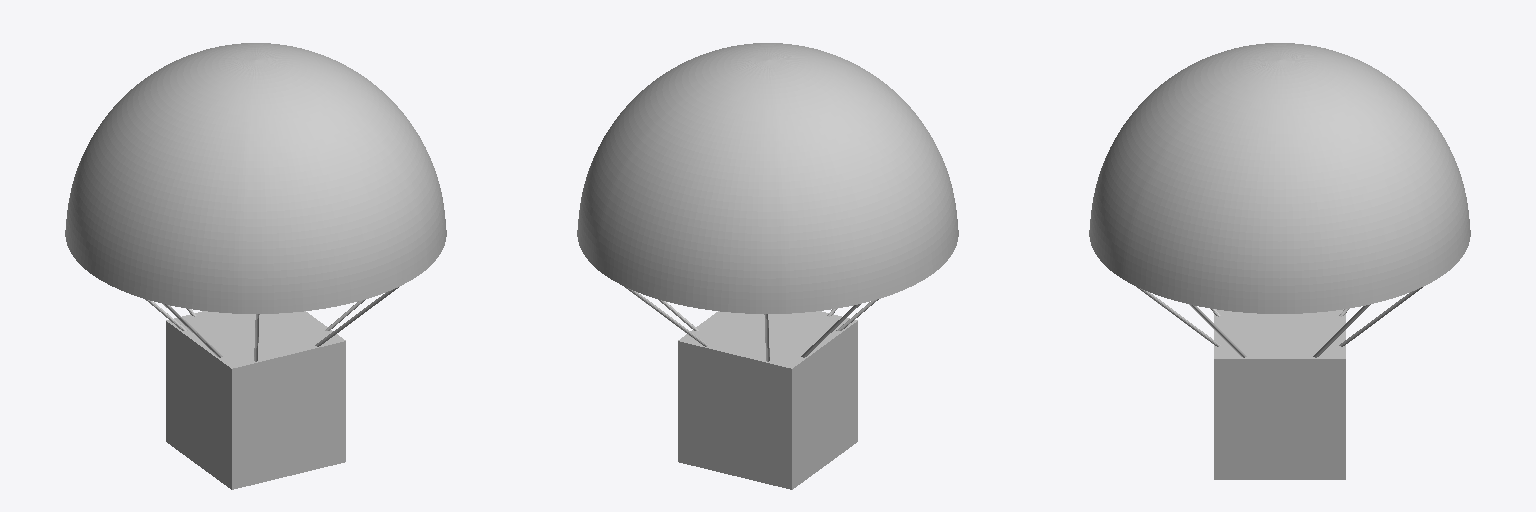
Rendered from Parachute_bitcoin_OBJ.obj.
The picture shows the model from 3 angles: view 1: azimuth 30°, elevation 25°; view 2: azimuth 150°, elevation 25°; view 3: azimuth 270°, elevation 25°; orthographic projection.
Parts seen in each view (by area): view 1: Sphere004, Box004, Plane015, Plane018, Line029; view 2: Sphere004, Box004, Plane017, Plane018, Line030; view 3: Sphere004, Box004, Plane016, Line029, Line030.
Part boxes in pixels (left/top/right/bottom): Sphere004: left=65, top=43, right=446, bottom=313; Box004: left=166, top=311, right=345, bottom=489; Plane015: left=252, top=369, right=325, bottom=463; Plane018: left=177, top=352, right=219, bottom=460; Line029: left=315, top=287, right=398, bottom=346; Sphere004: left=577, top=43, right=958, bottom=313; Box004: left=678, top=311, right=857, bottom=489; Plane017: left=698, top=369, right=771, bottom=463; Plane018: left=804, top=352, right=846, bottom=460; Line030: left=625, top=287, right=708, bottom=346; Sphere004: left=1089, top=43, right=1470, bottom=313; Box004: left=1214, top=309, right=1345, bottom=479; Plane016: left=1237, top=382, right=1322, bottom=458; Line029: left=1137, top=287, right=1246, bottom=357; Line030: left=1313, top=287, right=1422, bottom=357.
Bounding box in the file's own units: 72.74 × 82.44 × 72.74.